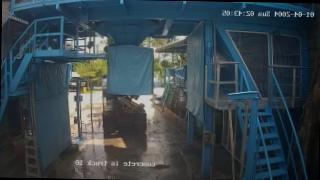cement_mixer_truck: (102, 75, 146, 132)
